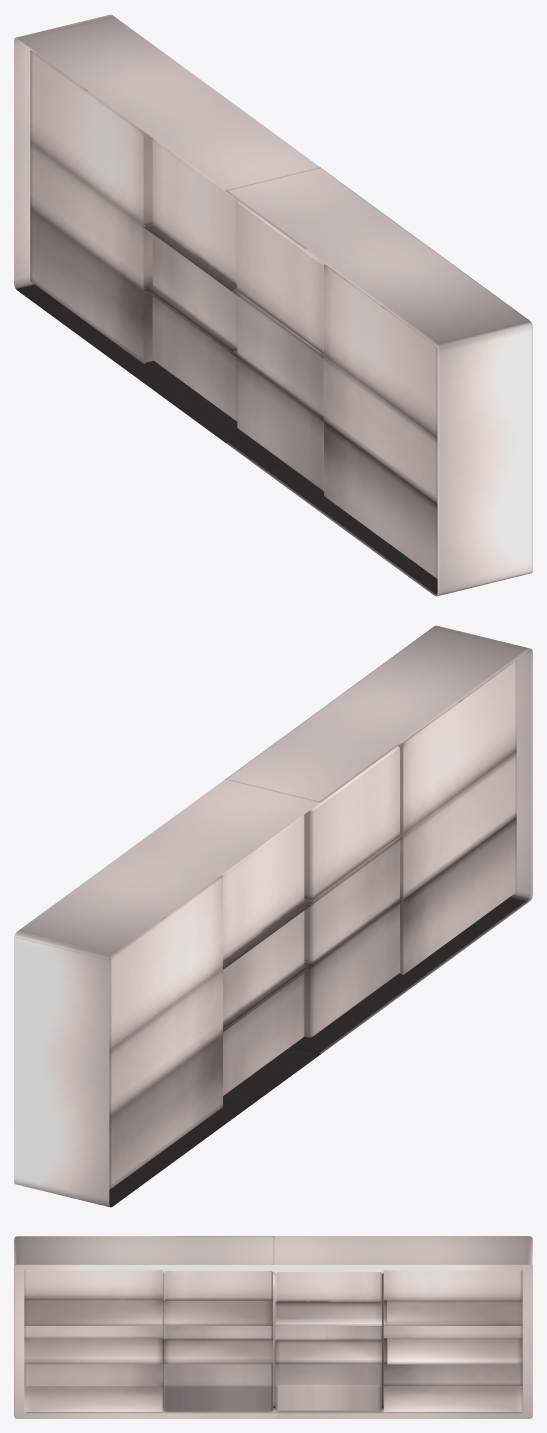
The model's file is kitchencupboard_base.glb.
3 renders of one model, top to bottom at view 1: azimuth 30°, elevation 25°; view 2: azimuth 150°, elevation 25°; view 3: azimuth 270°, elevation 25°, orthographic. The views are drawn at different scales.
Visible parts, largest first — view 1: RC_Furn_CabinetTopShelf; view 2: RC_Furn_CabinetTopShelf; view 3: RC_Furn_CabinetTopShelf.
Part boxes in pixels (x1=…): RC_Furn_CabinetTopShelf: x1=14, y1=14, x2=532, y2=596; RC_Furn_CabinetTopShelf: x1=14, y1=625, x2=532, y2=1207; RC_Furn_CabinetTopShelf: x1=14, y1=1236, x2=532, y2=1418.
Bounding box in the file's own units: 1.03 × 2.6 × 7.91.
Materials: 1 (1 with a texture image).
